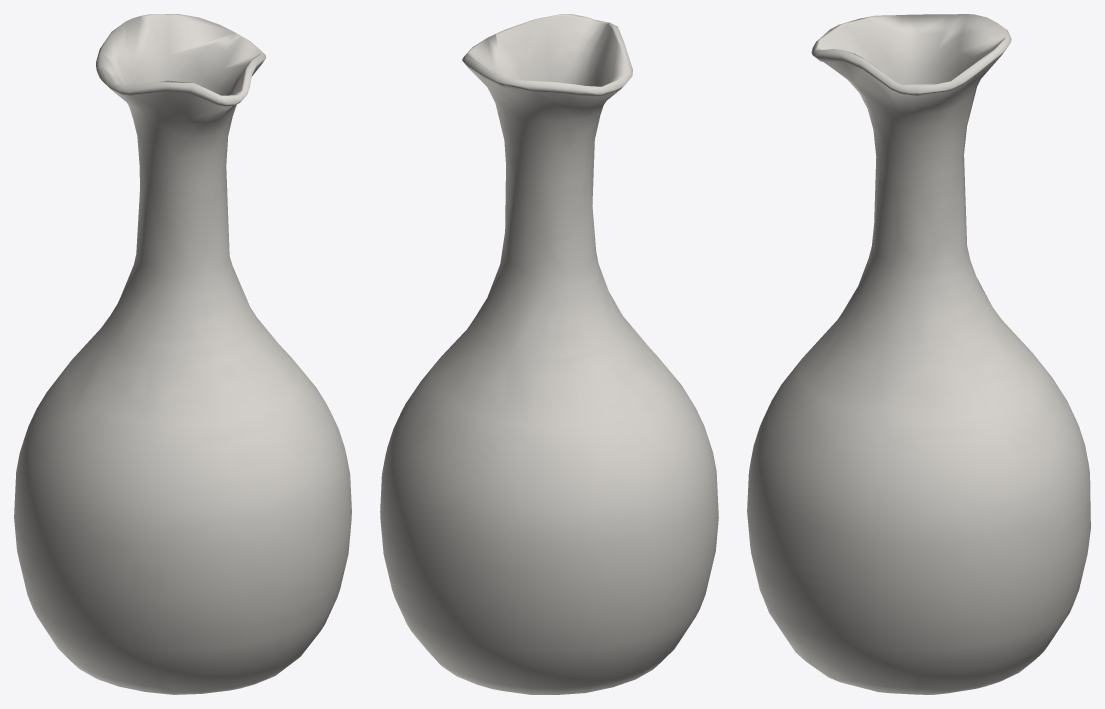
File: th_vase2.glb
3 views of the same model, side by side, from view 1: azimuth 30°, elevation 25°; view 2: azimuth 150°, elevation 25°; view 3: azimuth 270°, elevation 25° (orthographic).
Visible parts, largest first — view 1: ceramic_vase_01; view 2: ceramic_vase_01; view 3: ceramic_vase_01.
Boxes of the visible parts, x1,y1,x2,y2 form: ceramic_vase_01: [14, 14, 351, 694]; ceramic_vase_01: [380, 14, 718, 694]; ceramic_vase_01: [747, 14, 1090, 694].
Size of the model in its own units: 0.2036 by 0.4003 by 0.2031.
Materials: 1 (1 with a texture image).
